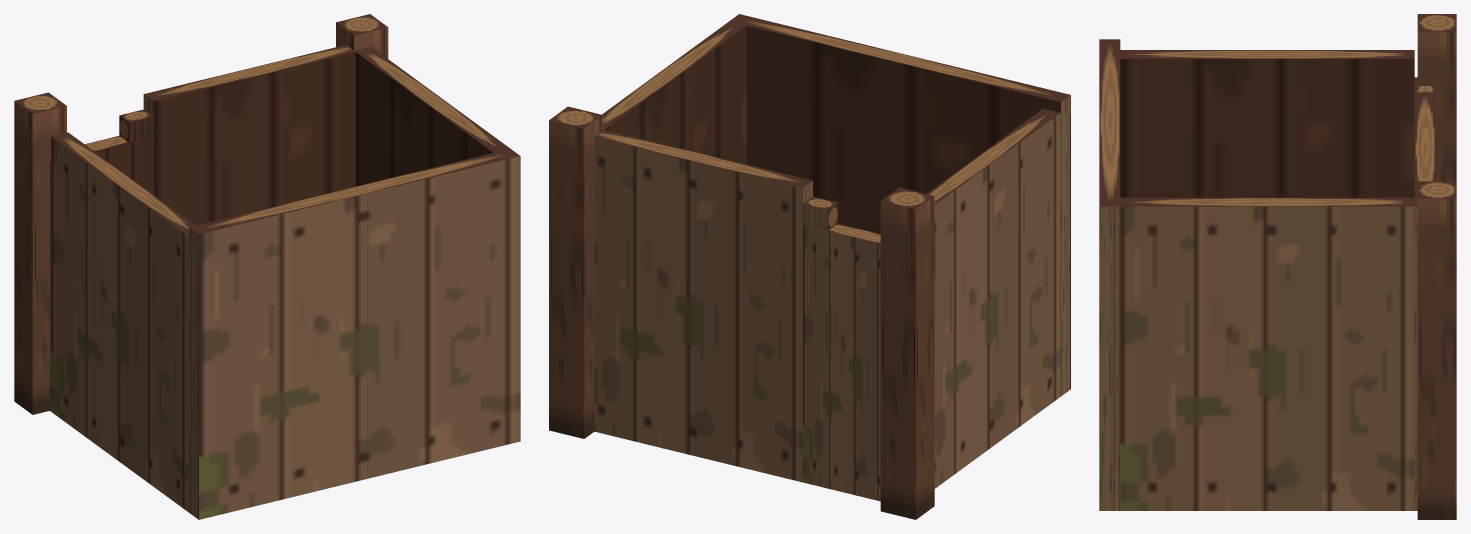
File: SM_PR14_CrateOpen.fbx
The picture shows the model from 3 angles, left to right: view 1: azimuth 30°, elevation 25°; view 2: azimuth 150°, elevation 25°; view 3: azimuth 270°, elevation 25°; orthographic projection. The views are drawn at different scales.
Parts seen in each view (by area): view 1: PR14_Crate; view 2: PR14_Crate; view 3: PR14_Crate.
Part boxes in pixels (x1,y1,x2,y2): PR14_Crate: [14, 14, 520, 519]; PR14_Crate: [549, 14, 1070, 519]; PR14_Crate: [1099, 14, 1456, 519].
Bounding box in the file's own units: 0.73 × 0.59 × 0.595.
